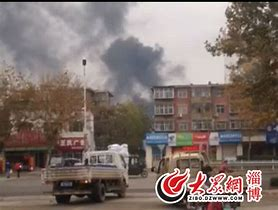smoke: (91, 6, 173, 86)
